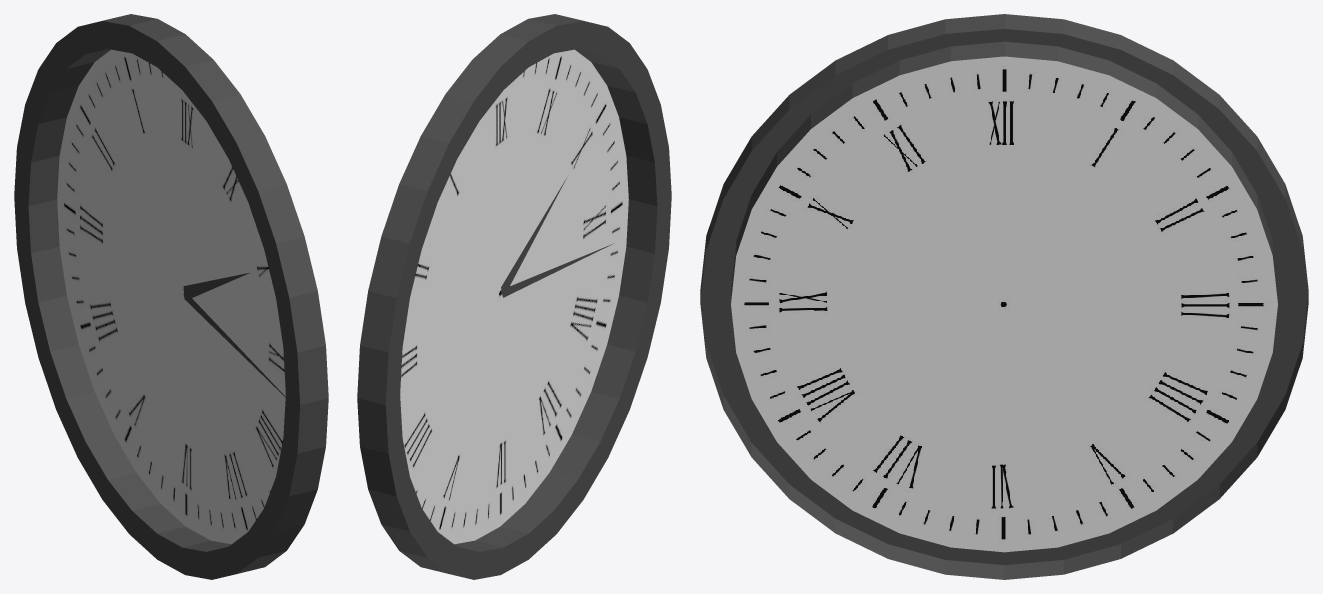
File: analogclock_onemesh.gltf
3 renders of one model, left to right at view 1: azimuth 30°, elevation 25°; view 2: azimuth 150°, elevation 25°; view 3: azimuth 270°, elevation 25°, orthographic. The views are drawn at different scales.
Visible parts, largest first — view 1: Clock; view 2: Clock; view 3: Clock.
Part boxes in pixels (<box>): Clock: <box>14,14,328,579</box>; Clock: <box>357,14,671,579</box>; Clock: <box>700,14,1308,579</box>.
Bounding box in the file's own units: 0.081 × 1.4 × 1.4.
3 materials, 1 textured.
